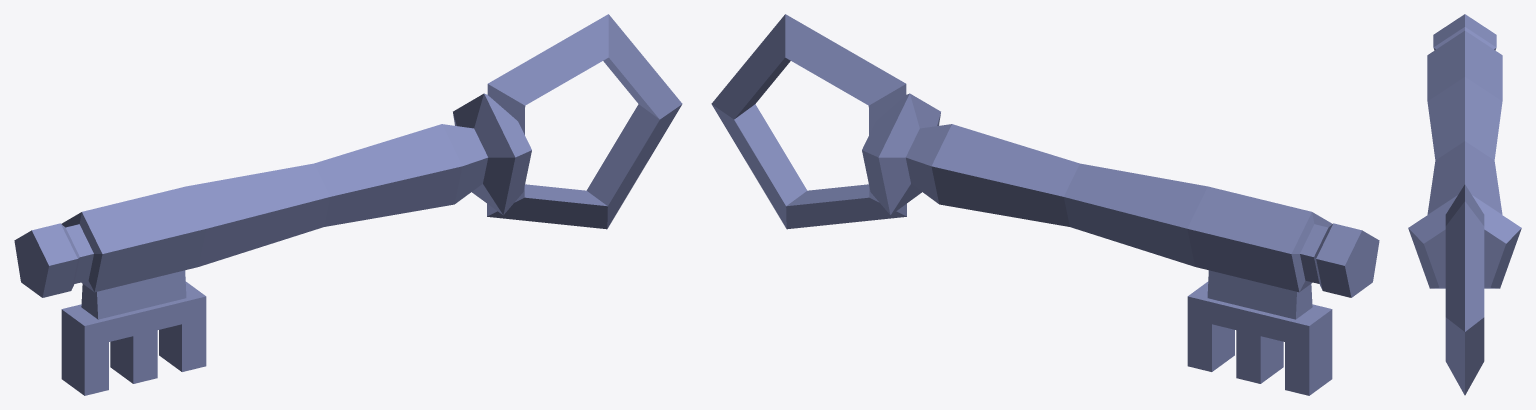
Rendered from Key_1.glb.
The picture shows the model from 3 angles, left to right: view 1: azimuth 30°, elevation 25°; view 2: azimuth 150°, elevation 25°; view 3: azimuth 270°, elevation 25°; orthographic projection. The views are drawn at different scales.
Parts seen in each view (by area): view 1: Key_1; view 2: Key_1; view 3: Key_1.
Part boxes in pixels (x1=…): Key_1: x1=14, y1=14, x2=682, y2=395; Key_1: x1=711, y1=14, x2=1379, y2=395; Key_1: x1=1408, y1=14, x2=1521, y2=395.
Size of the model in its own units: 0.1375 by 0.049 by 0.0229.
